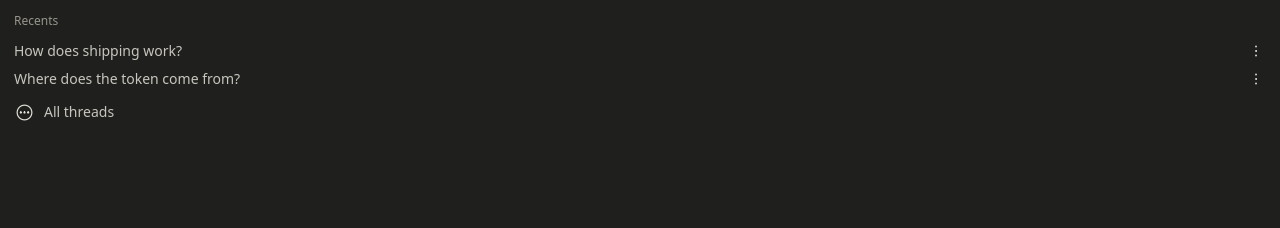
Threads › the row menu › closes when another row is picked
Click the button named "Actions for How does shipping work?": (1256,51) [1244, 39, 1268, 63]
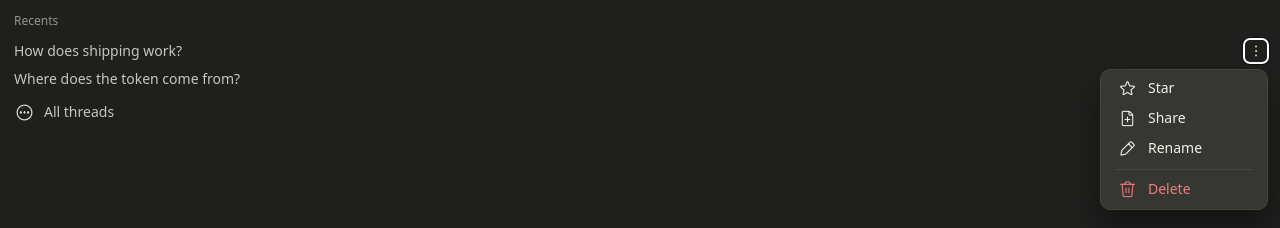
Click the button "Where does the token come from?": (127,78) [14, 65, 1236, 93]
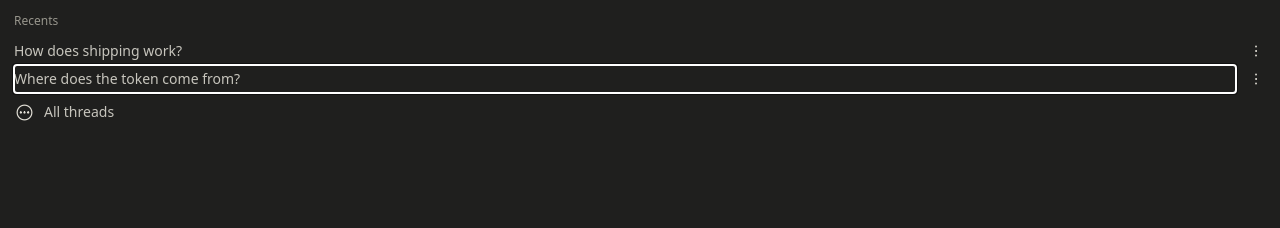
Check: the menu is gone
